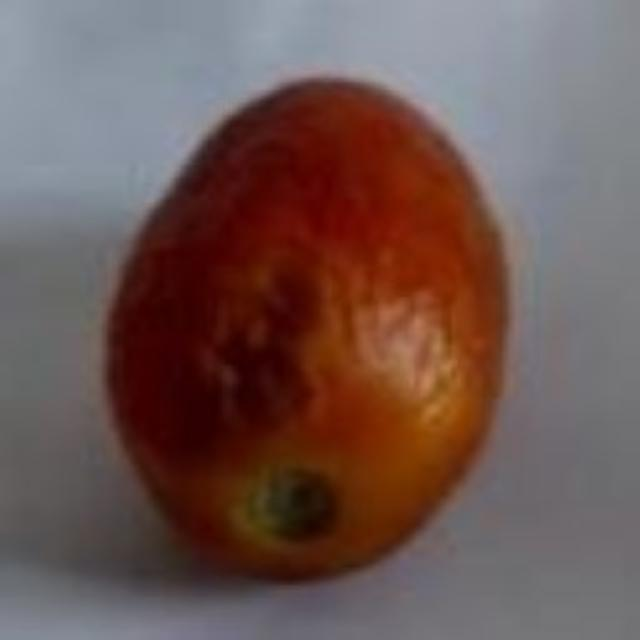defect: (103, 74, 518, 586)
